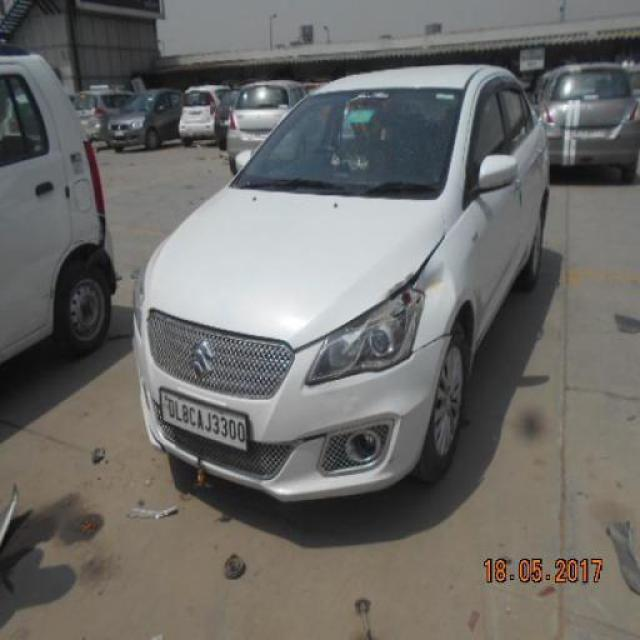dent: (389, 265, 457, 327)
shatter: (385, 292, 418, 333)
tear: (292, 428, 333, 450)
